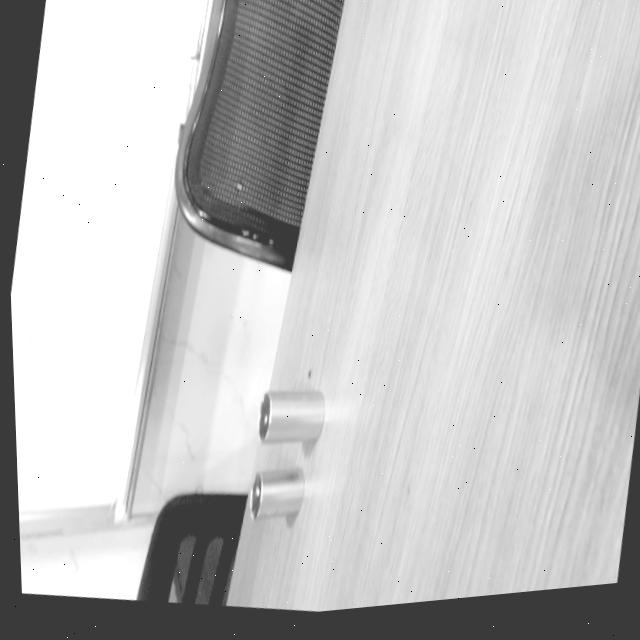Co_Lon: (259, 390, 325, 443)
Co_Nho: (247, 466, 308, 519)
